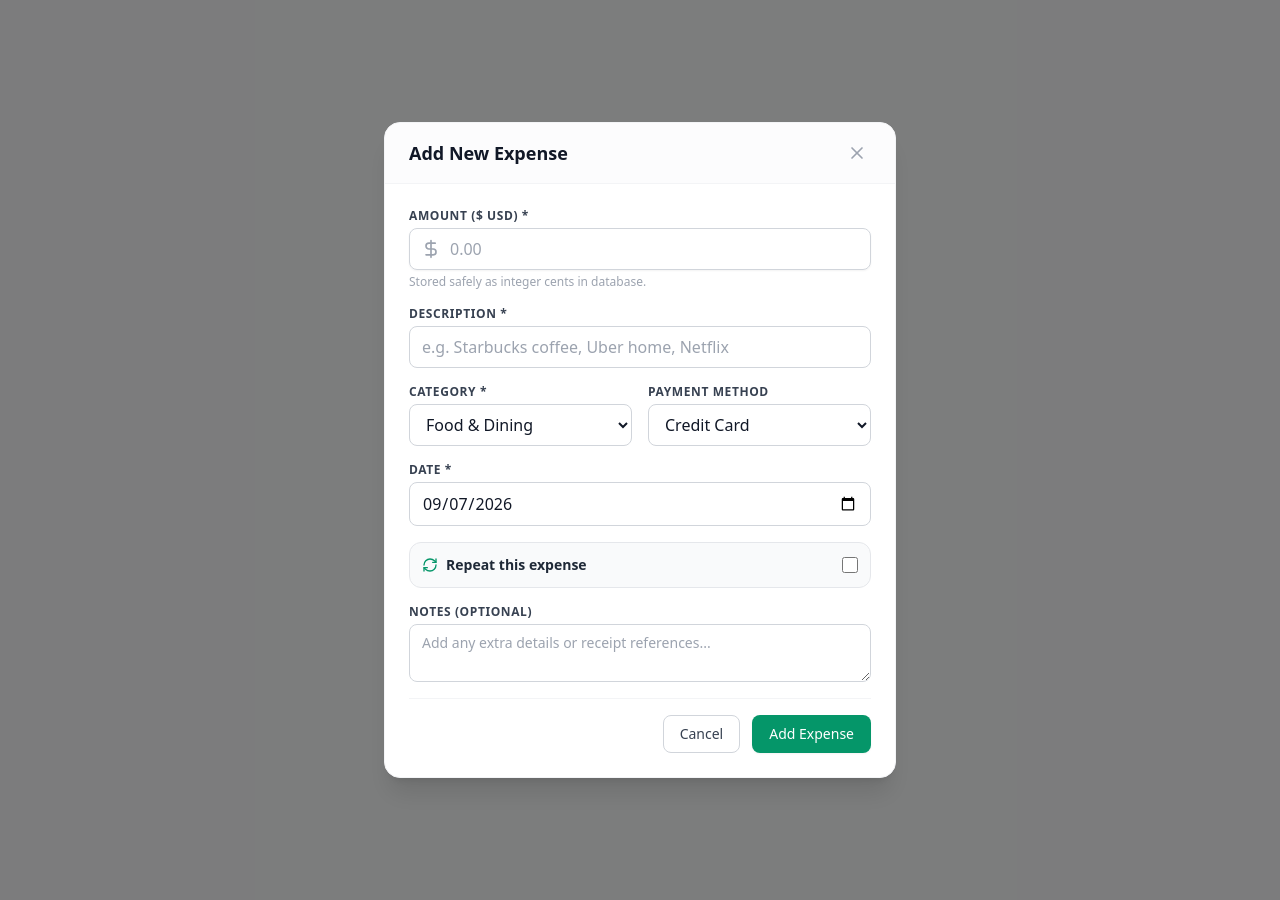
Test case: ExpenseModal Component › should display error message when amount is zero or negative
The image size is (1280, 900).
In the number field labelled "Amount ($ USD) *": coordinates (640, 249) [409,228,871,270], type "0"
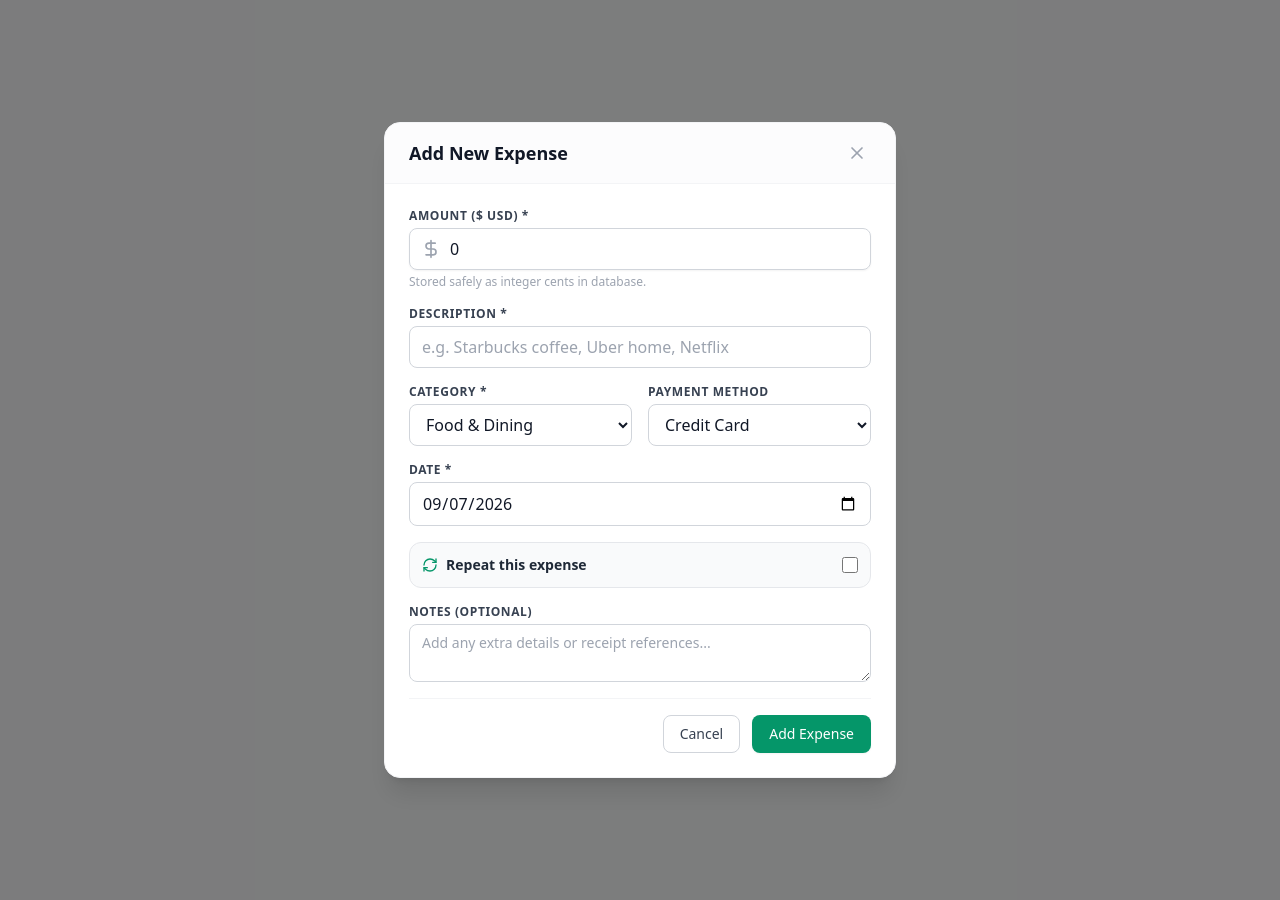
In the field labelled "Description *": coordinates (640, 347) [409,326,871,368], type "Free Item"
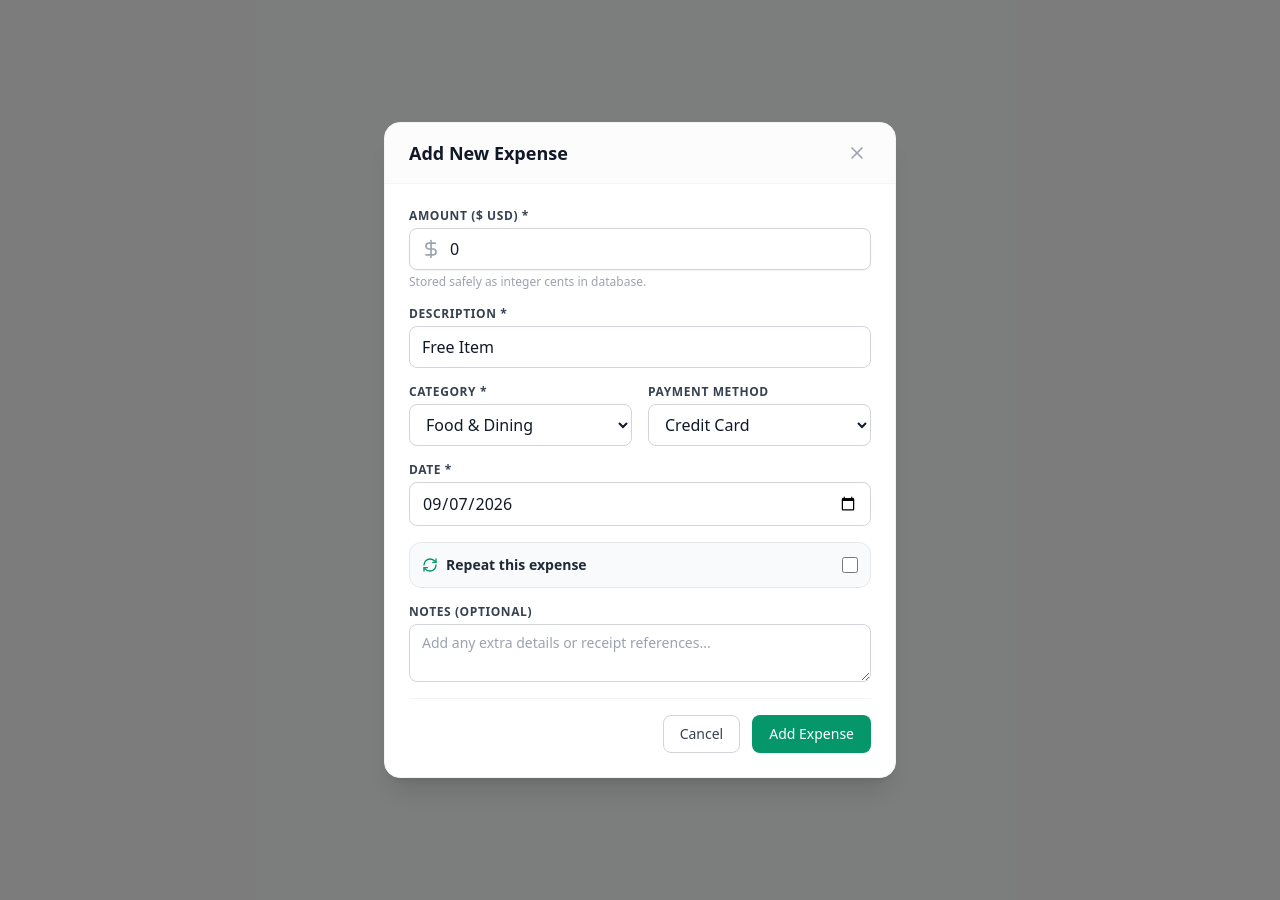
Click the button "Add Expense": coordinates (812, 734) [752,715,871,753]
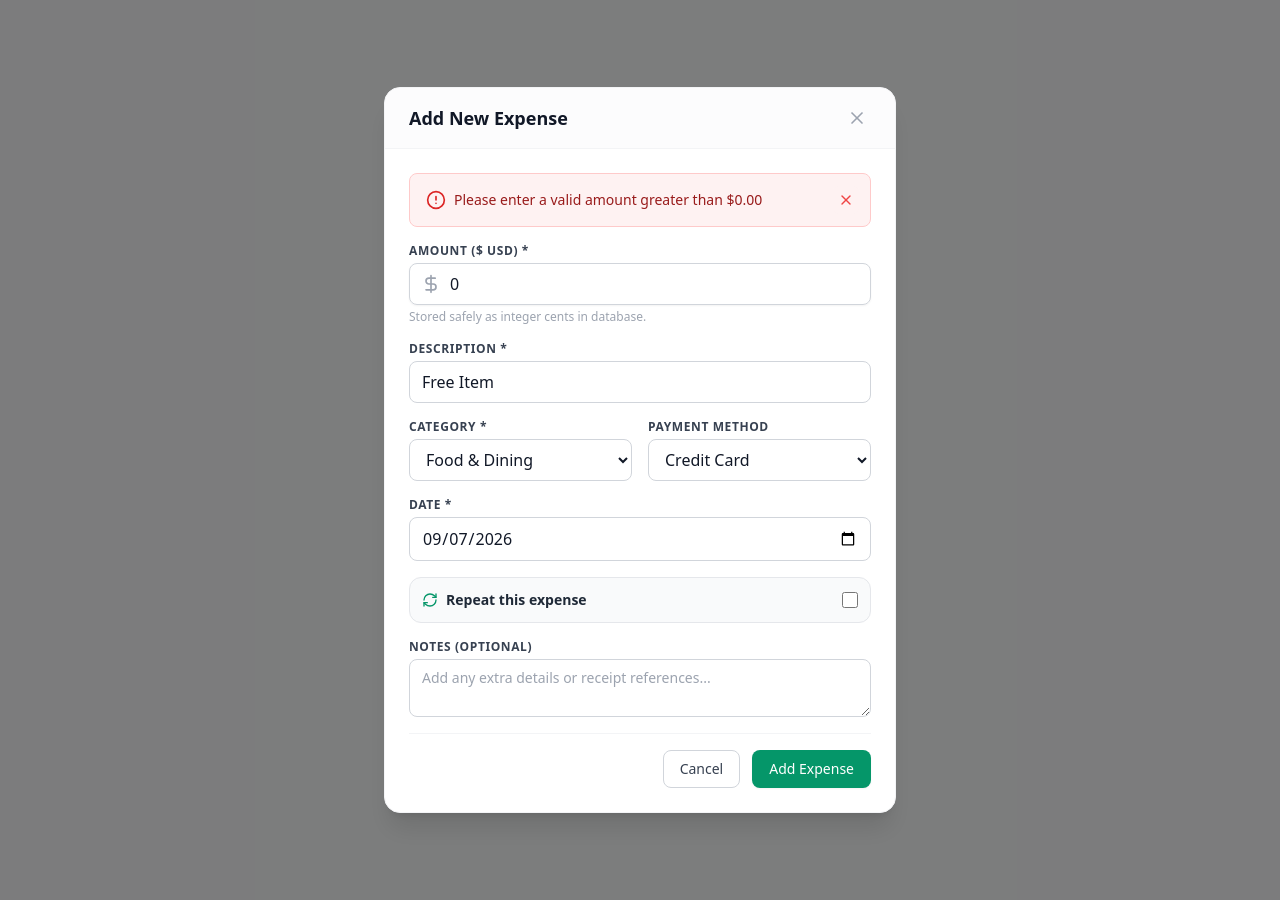
expect the text "Please enter a valid amount greater than $0.00" is shown: met, box [454,190,762,210]
